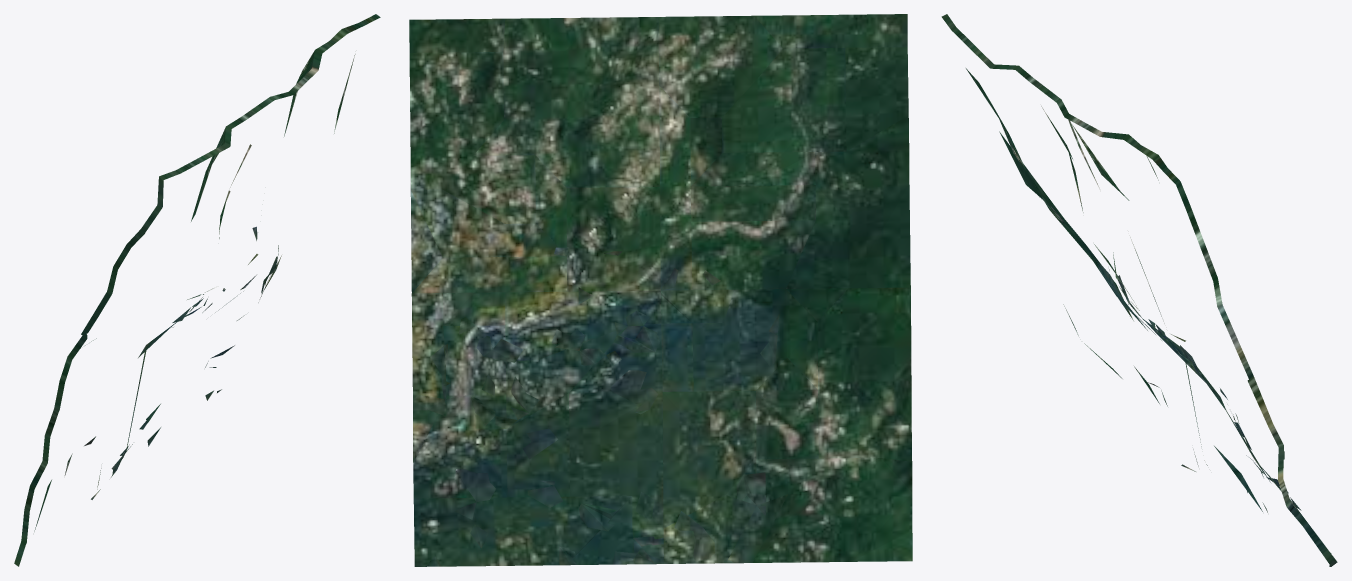
3 renders of one model, left to right at view 1: azimuth 30°, elevation 25°; view 2: azimuth 150°, elevation 25°; view 3: azimuth 270°, elevation 25°, orthographic. The views are drawn at different scales.
Size of the model in its own units: 4698 by 4659 by 3868.
Materials: 1 (1 with a texture image).
